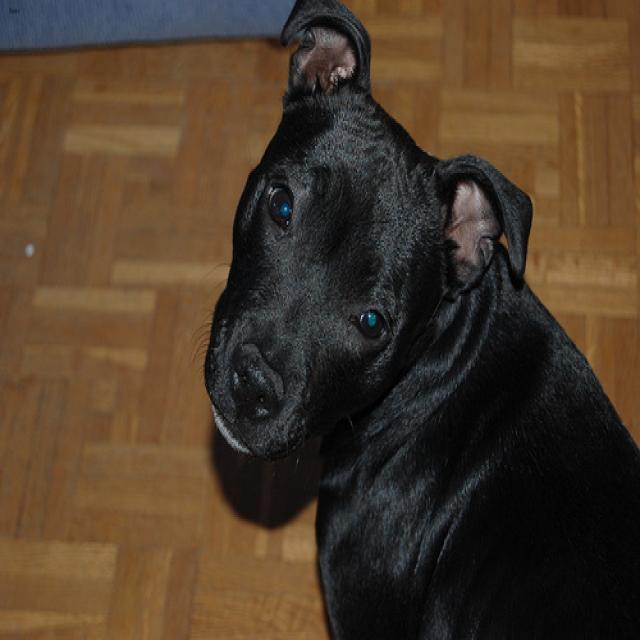dog-staffordshire_bull_terrier: (200, 2, 637, 636)
